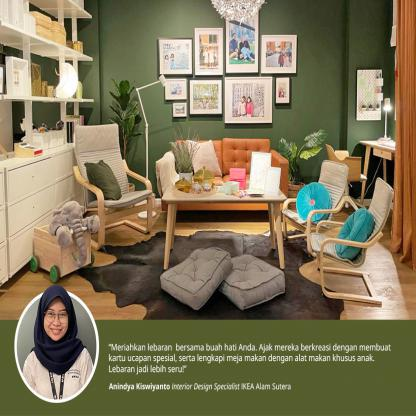kursi: (315, 179, 394, 311), (75, 120, 153, 240)
meja: (161, 181, 286, 269)
